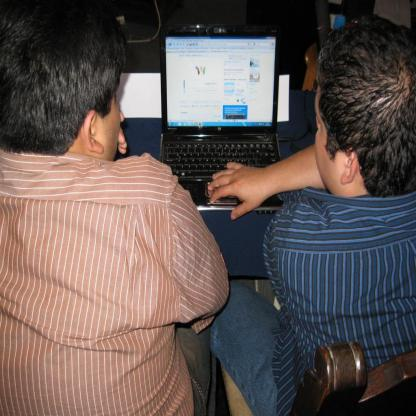board: (158, 23, 283, 212)
